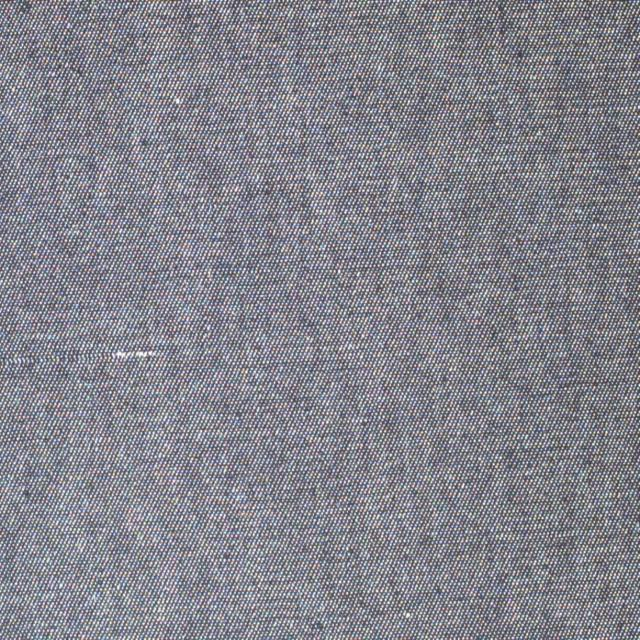Warp_Weft: (111, 348, 163, 361)
